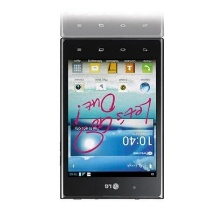phone: (53, 32, 168, 205)
